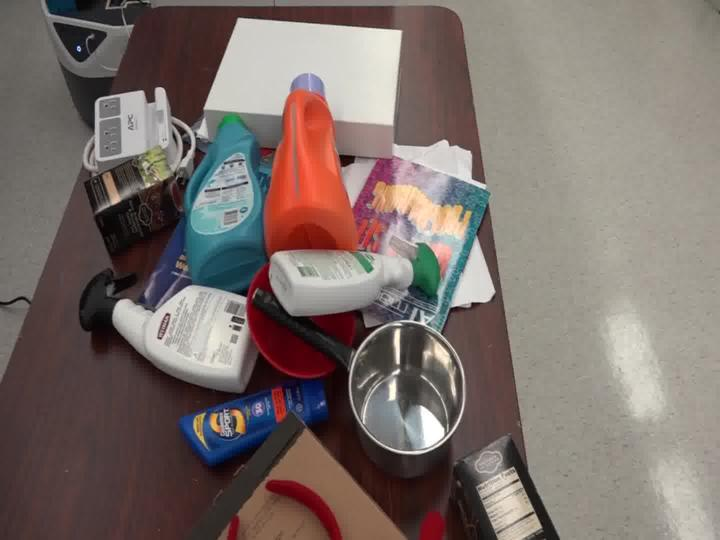downy: (172, 99, 269, 295)
